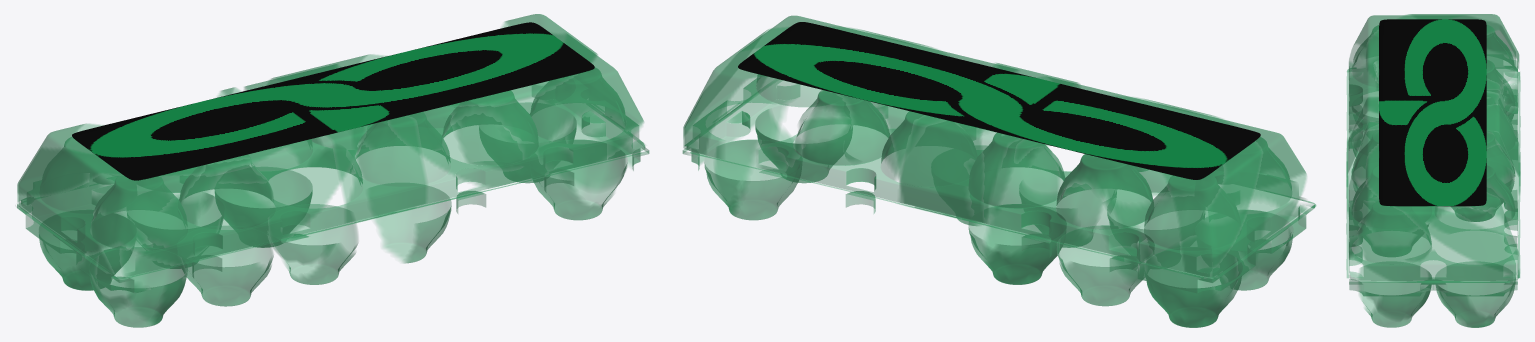
3 renders of one model, left to right at view 1: azimuth 30°, elevation 25°; view 2: azimuth 150°, elevation 25°; view 3: azimuth 270°, elevation 25°, orthographic. The views are drawn at different scales.
Parts seen in each view (by area): view 1: 盒体, 盒盖, 贴图; view 2: 盒体, 贴图, 盒盖; view 3: 盒体, 盒盖, 贴图.
Boxes of the visible parts, <box> form: 盒体: <box>17,67,649,327</box>; 盒盖: <box>17,14,643,264</box>; 贴图: <box>72,22,594,180</box>; 盒体: <box>682,74,1316,327</box>; 贴图: <box>738,22,1260,179</box>; 盒盖: <box>683,15,1306,277</box>; 盒体: <box>1346,25,1520,327</box>; 盒盖: <box>1346,14,1520,281</box>; 贴图: <box>1379,19,1486,206</box>.
Bounding box in the file's own units: 239 × 61.23 × 81.28.
3 materials, 3 textured.
